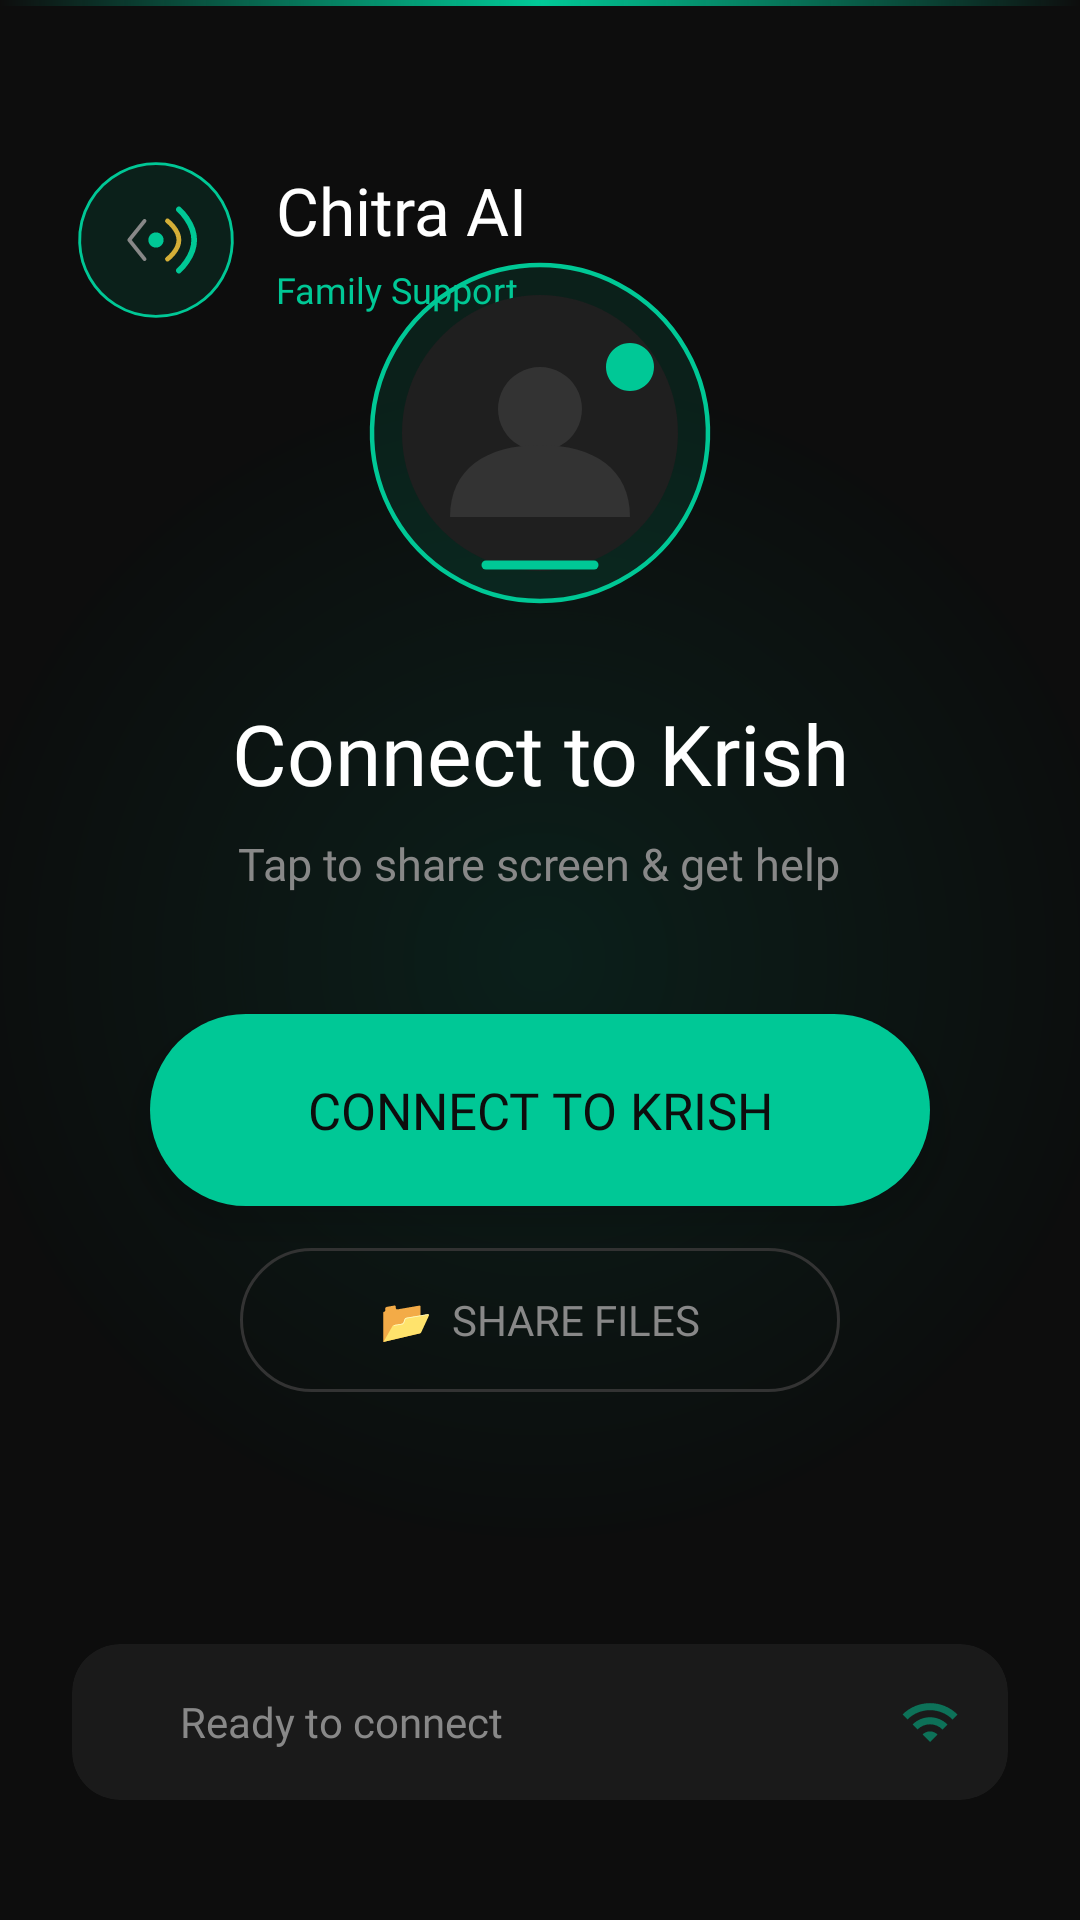

Named icons in this screenshot (1080 x 1920) and their centers, (x=x, y=y):
Connection: (x=930, y=1722)
